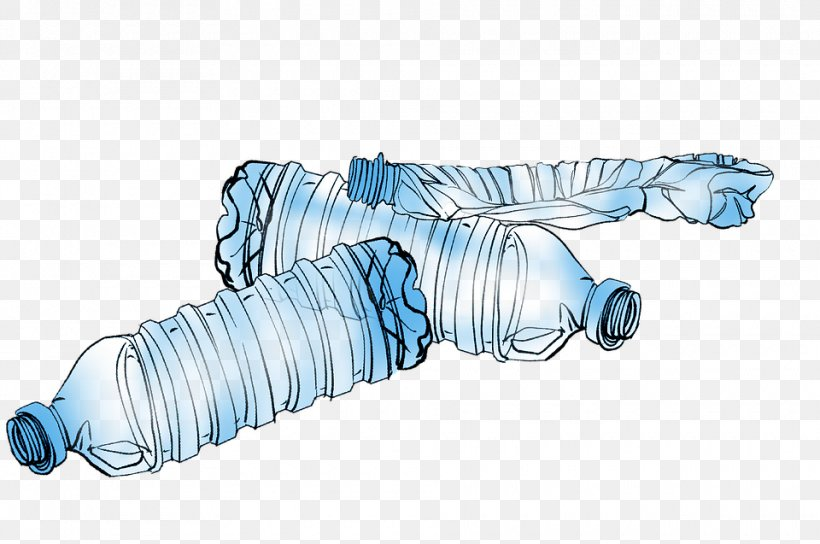plastic_bottle: (2, 220, 644, 524), (166, 112, 669, 419), (331, 71, 763, 260)
